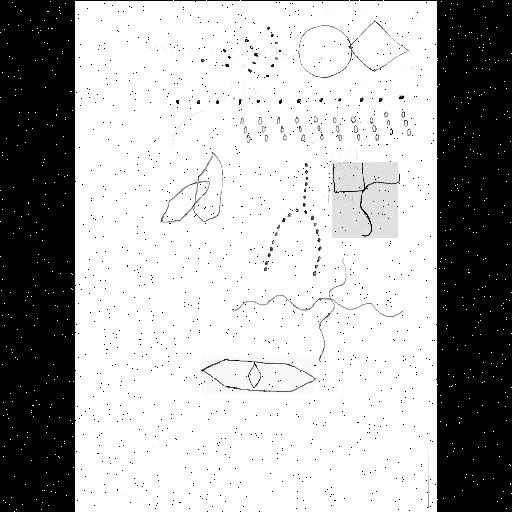shape-1: (298, 16, 410, 78)
shape-2: (178, 94, 402, 104)
shape-3: (240, 110, 412, 144)
shape-4: (202, 24, 282, 76)
shape-5: (332, 162, 398, 238)
shape-6: (265, 162, 323, 276)
shape-7: (234, 258, 404, 362)
shape-8: (158, 152, 222, 222)
shape-9: (202, 356, 314, 394)
